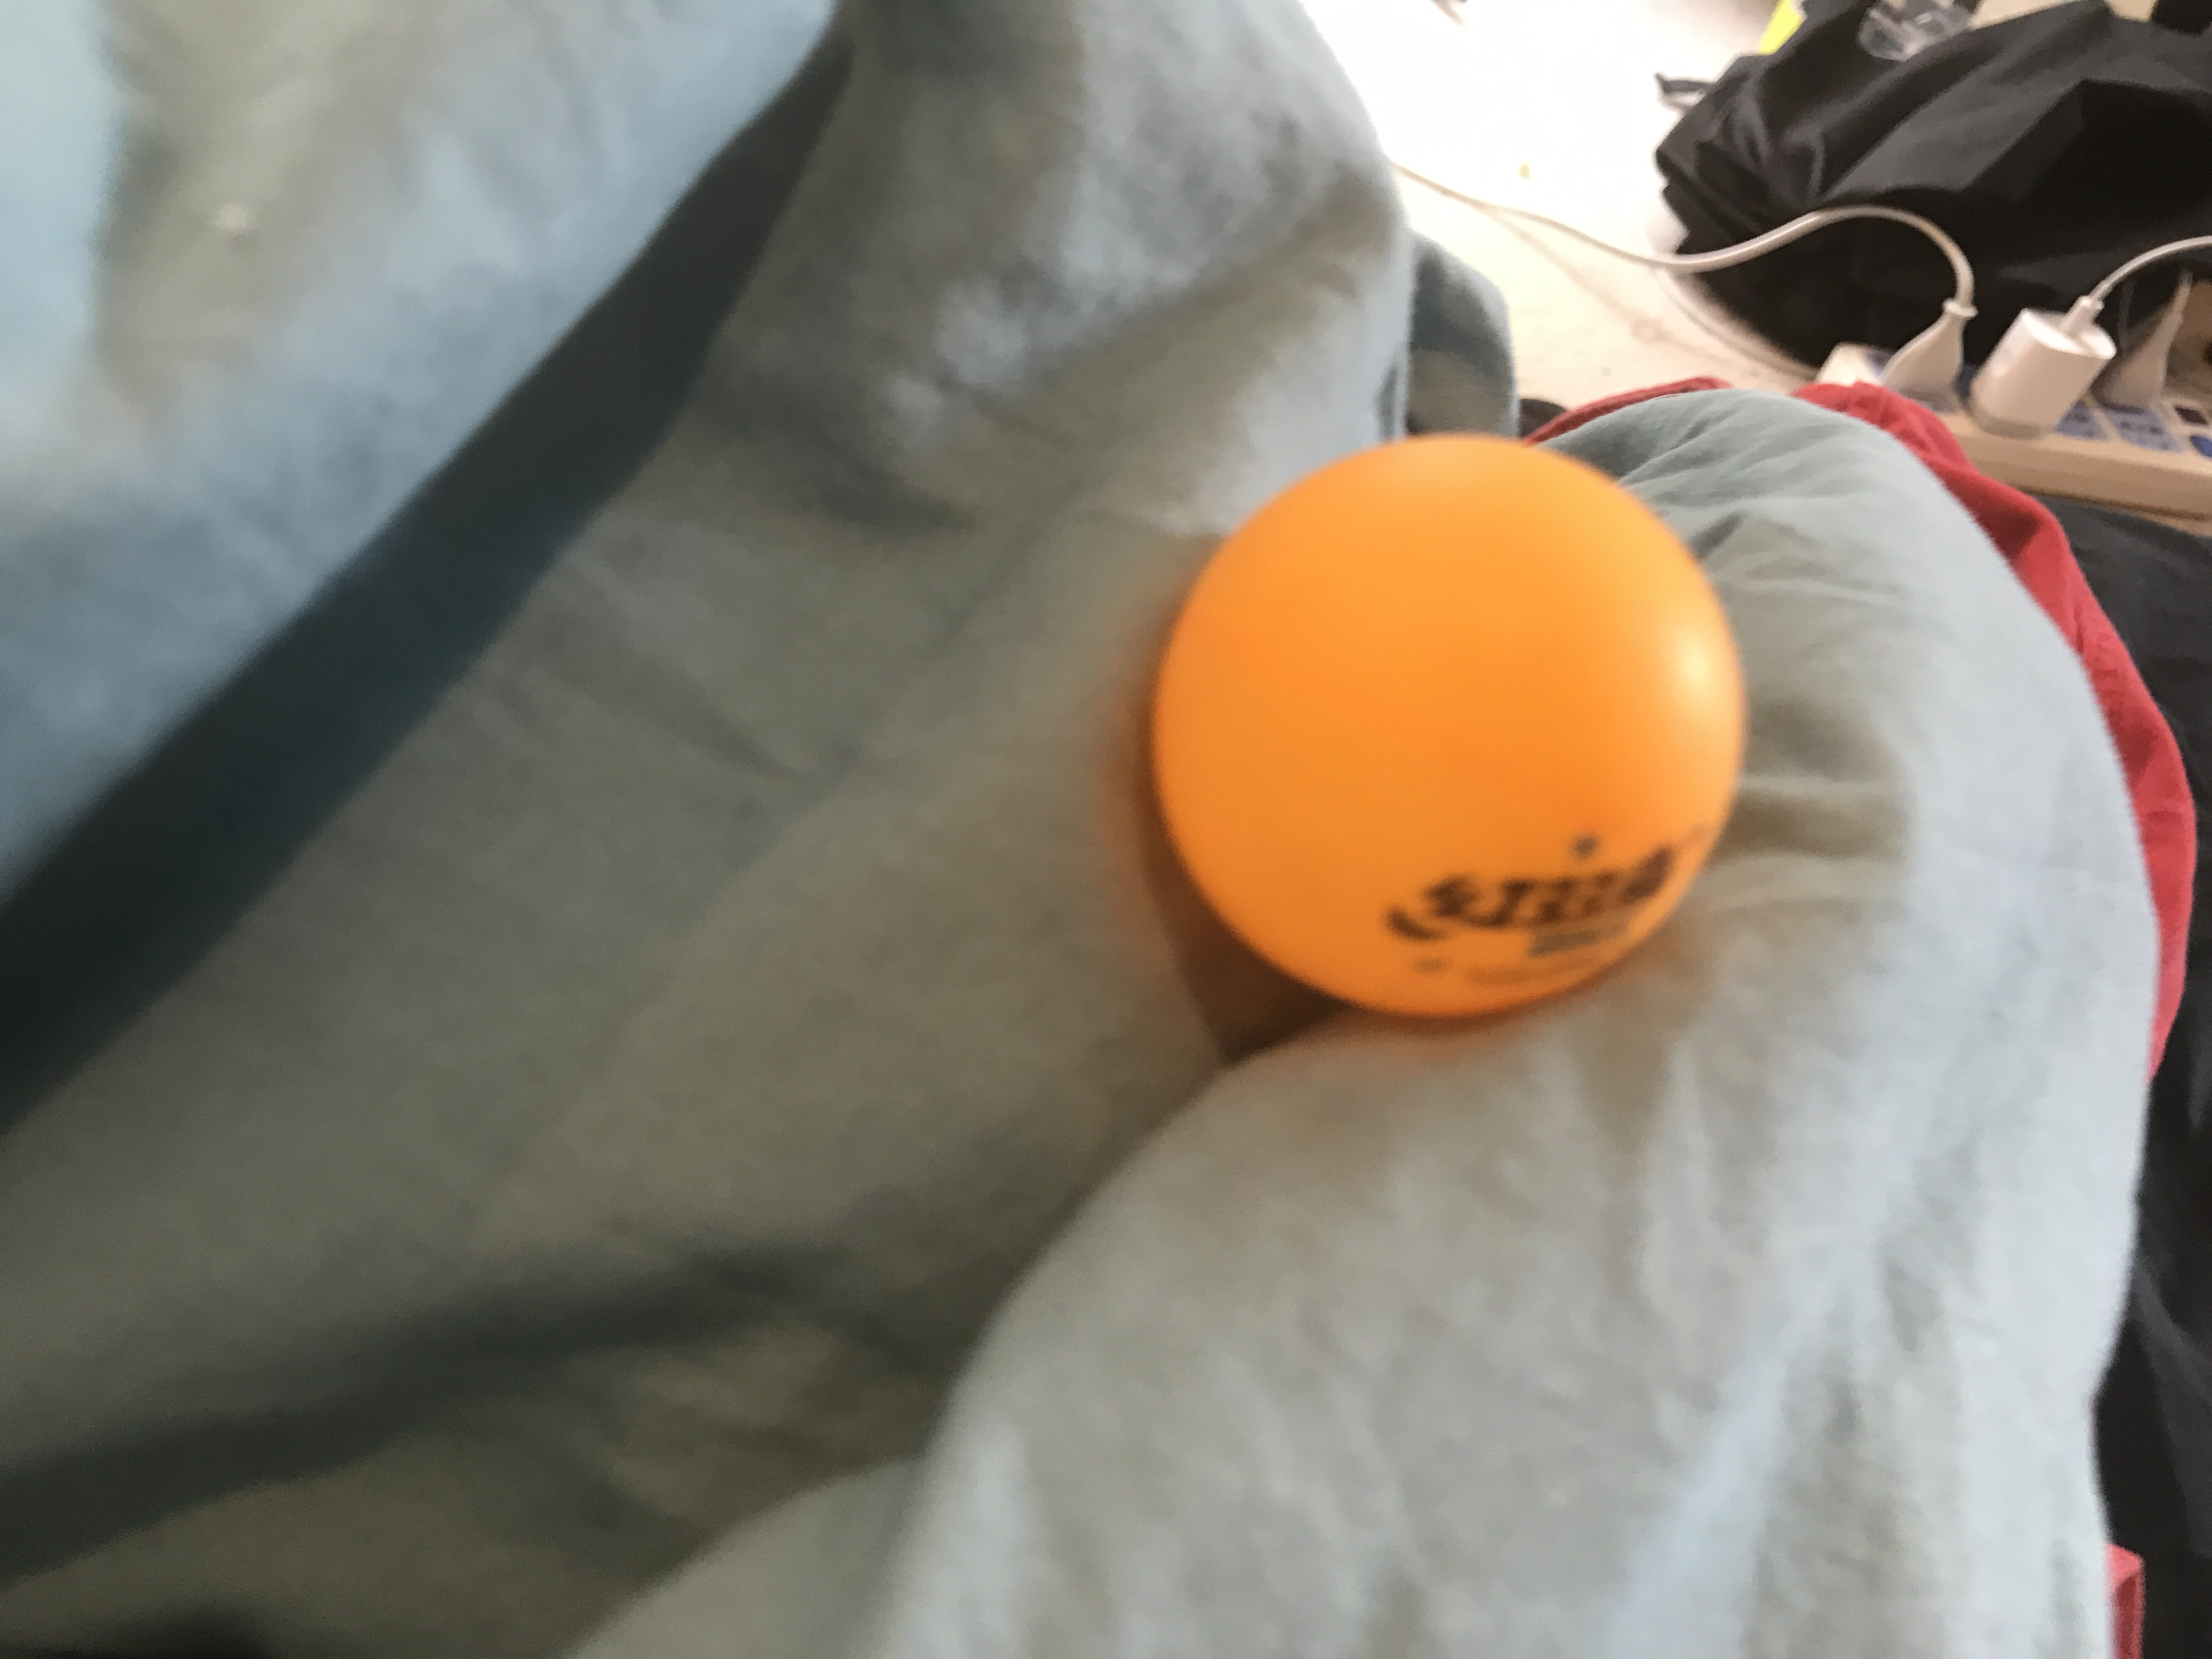pp: (1151, 422, 1759, 1040)
